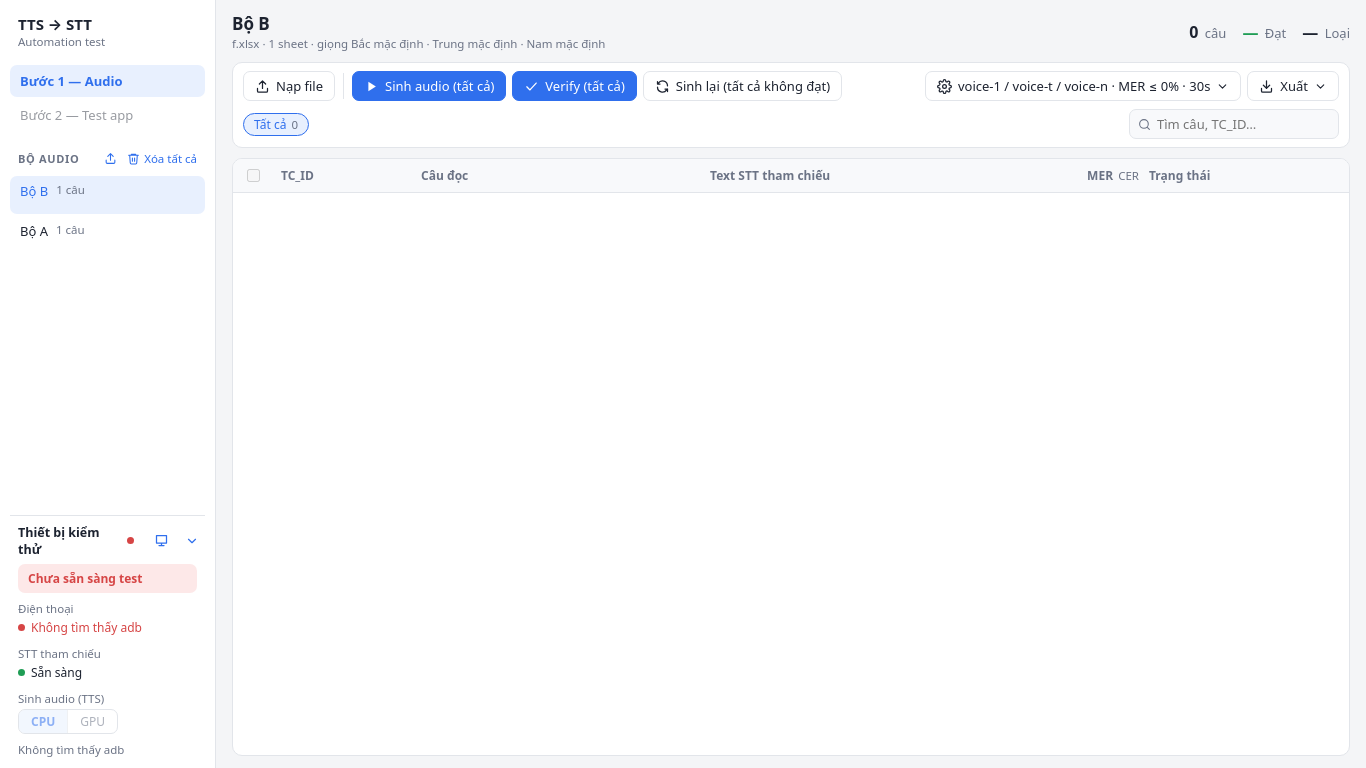
it: asks before saving settings whether to wipe the progress of existing sets
The width and height of the screenshot is (1366, 768).
Later steps or results of the test are not shown.
Click the button "voice-1 / voice-t / voice-n · MER ≤ 0% · 30s" at {"x": 1083, "y": 86}, box [925, 71, 1241, 101]
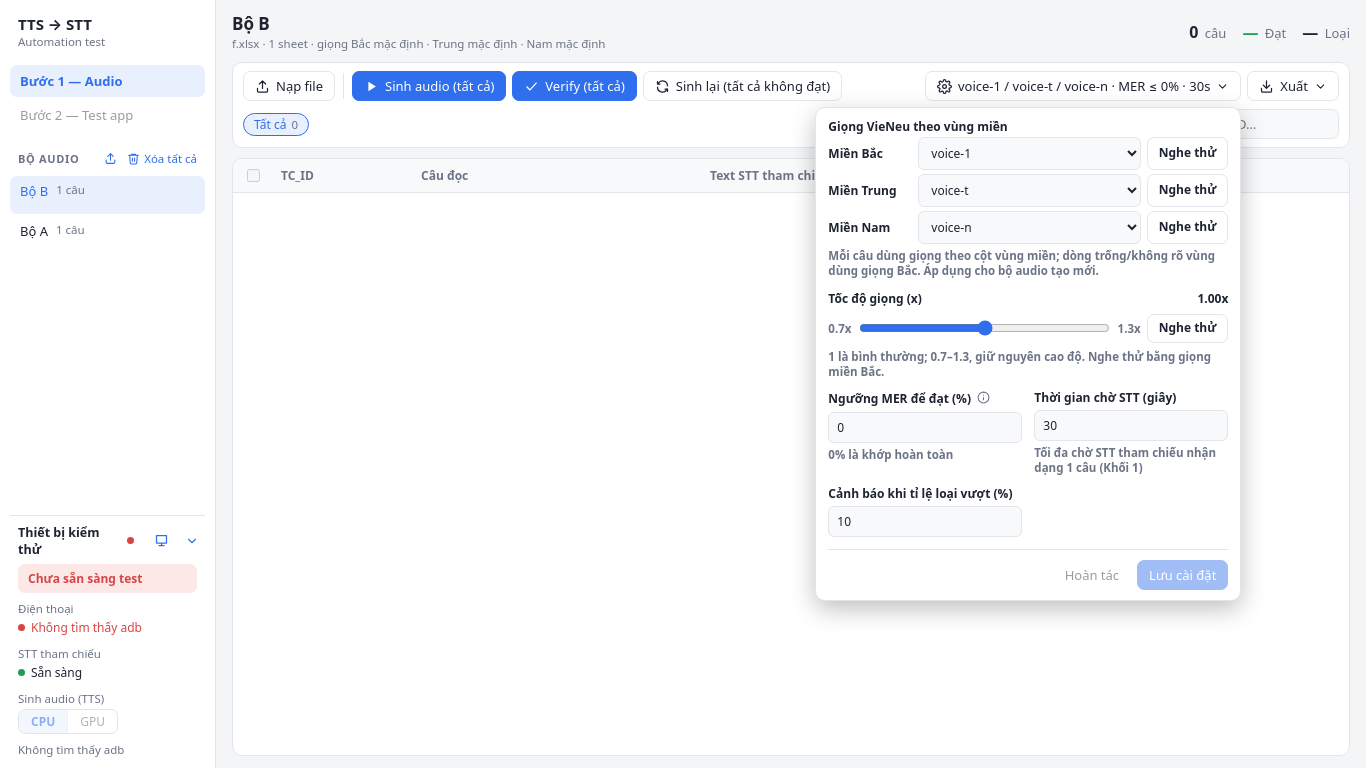
Cancel: nothing is saved or deleted.
Replace the text in the number field labelled "Ngưỡng MER để đạt (%)" with "5" at {"x": 925, "y": 428}, box [828, 412, 1022, 443]
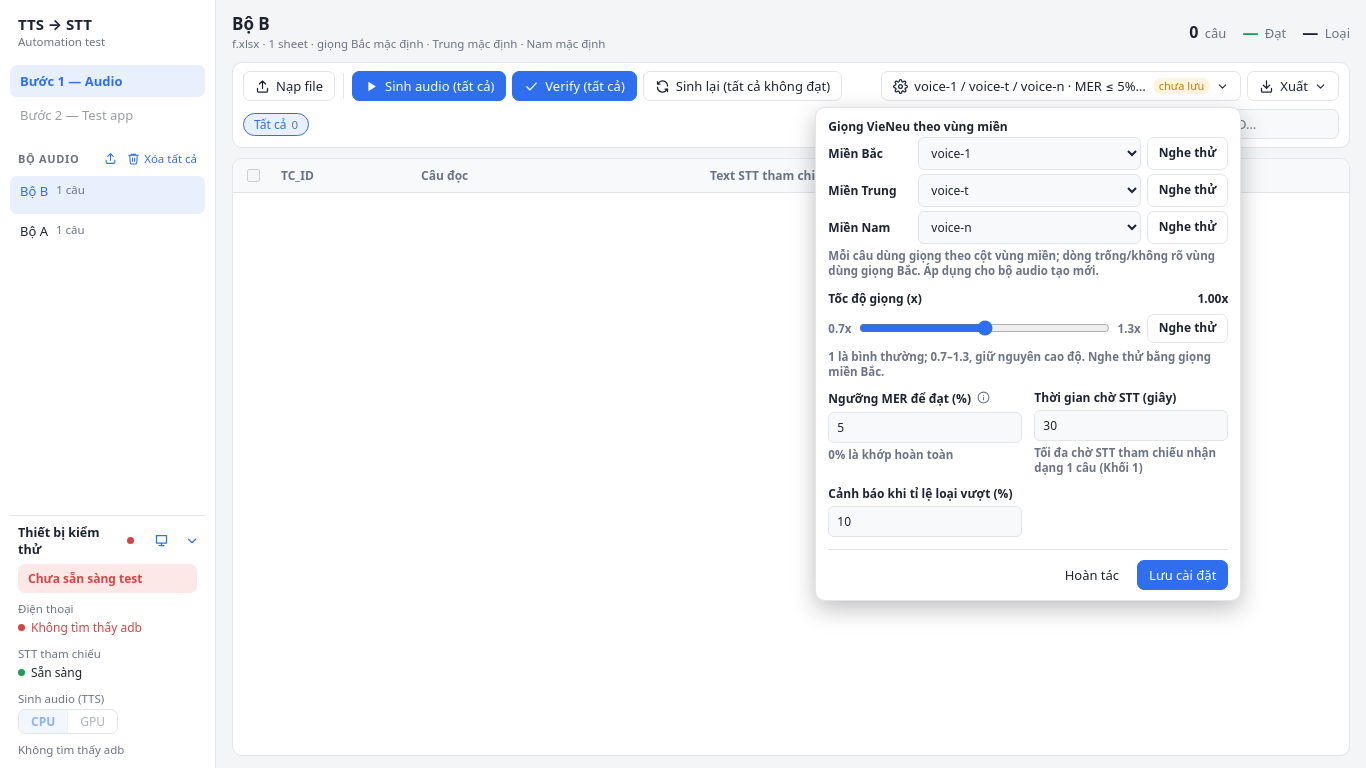
Click the button "Lưu cài đặt" at {"x": 1183, "y": 575}, box [1137, 560, 1228, 590]
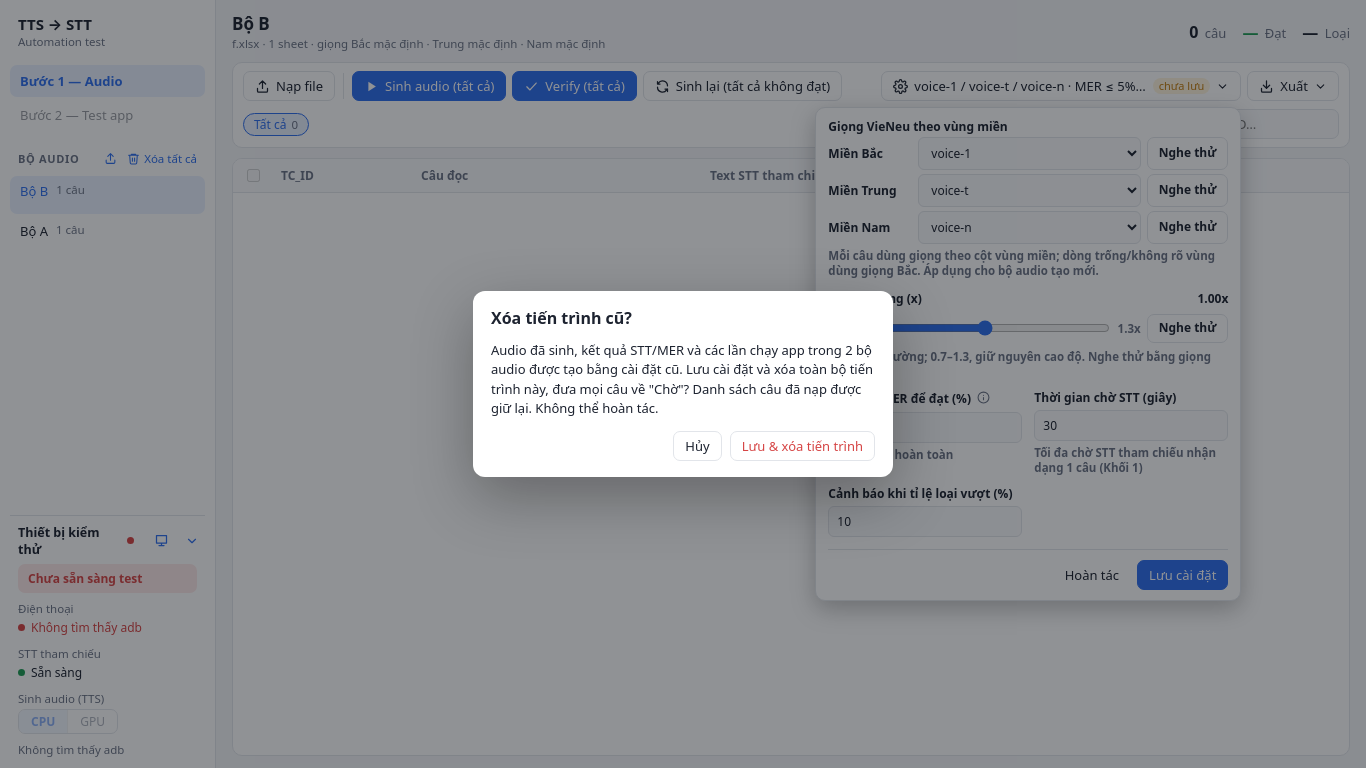
Expected: the text "2 bộ audio" is shown, [491, 341, 875, 419]
